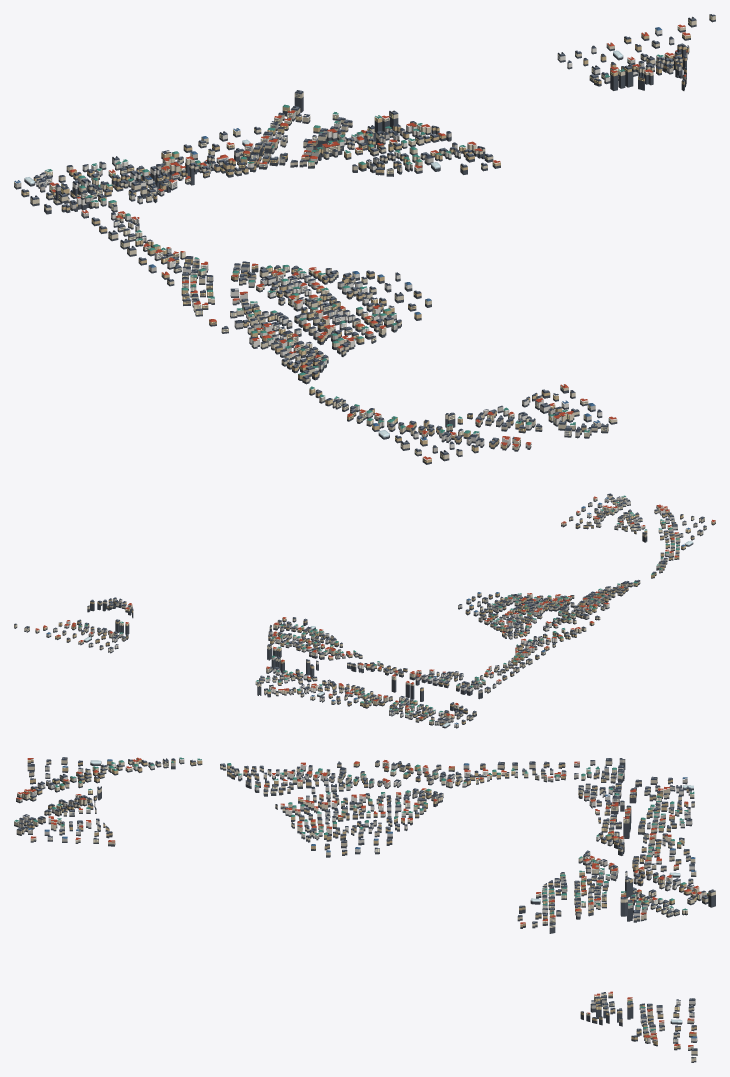
File: osm_buildings_T_W01_S02.glb
The picture shows the model from 3 angles, top to bottom: view 1: azimuth 30°, elevation 25°; view 2: azimuth 150°, elevation 25°; view 3: azimuth 270°, elevation 25°; orthographic projection. The views are drawn at different scales.
Visible parts, largest first — view 1: OSM_T_W01_S02_foundation, OSM_T_W01_S02_wall_cream_stucco, OSM_T_W01_S02_roof_mansard_slate, OSM_T_W01_S02_wall_french_ochre, OSM_T_W01_S02_wall_warm_white, OSM_T_W01_S02_roof_mansard_deck, OSM_T_W01_S02_roof_terracotta, OSM_T_W01_S02_wall_pastel_sand, OSM_T_W01_S02_roof_mint_metal, OSM_T_W01_S02_balcony_railing; view 2: OSM_T_W01_S02_foundation, OSM_T_W01_S02_roof_mansard_slate, OSM_T_W01_S02_wall_cream_stucco, OSM_T_W01_S02_wall_french_ochre, OSM_T_W01_S02_wall_warm_white, OSM_T_W01_S02_roof_mansard_deck, OSM_T_W01_S02_roof_terracotta, OSM_T_W01_S02_wall_pastel_sand, OSM_T_W01_S02_roof_mint_metal; view 3: OSM_T_W01_S02_foundation, OSM_T_W01_S02_roof_mansard_slate, OSM_T_W01_S02_wall_cream_stucco, OSM_T_W01_S02_wall_french_ochre, OSM_T_W01_S02_wall_warm_white, OSM_T_W01_S02_roof_mansard_deck, OSM_T_W01_S02_roof_terracotta, OSM_T_W01_S02_wall_pastel_sand, OSM_T_W01_S02_roof_mint_metal, OSM_T_W01_S02_balcony_railing.
Boxes of the visible parts, x1,y1,x2,y2 form: OSM_T_W01_S02_foundation: (14,18,715,464); OSM_T_W01_S02_wall_cream_stucco: (30,15,715,459); OSM_T_W01_S02_roof_mansard_slate: (21,14,715,455); OSM_T_W01_S02_wall_french_ochre: (21,32,690,462); OSM_T_W01_S02_wall_warm_white: (36,28,687,447); OSM_T_W01_S02_roof_mansard_deck: (22,17,695,453); OSM_T_W01_S02_roof_terracotta: (49,24,690,459); OSM_T_W01_S02_wall_pastel_sand: (14,56,686,451); OSM_T_W01_S02_roof_mint_metal: (45,54,663,433); OSM_T_W01_S02_balcony_railing: (25,20,690,460); OSM_T_W01_S02_foundation: (14,498,715,728); OSM_T_W01_S02_roof_mansard_slate: (14,494,706,723); OSM_T_W01_S02_wall_cream_stucco: (14,495,706,724); OSM_T_W01_S02_wall_french_ochre: (43,501,715,724); OSM_T_W01_S02_wall_warm_white: (46,501,686,724); OSM_T_W01_S02_roof_mansard_deck: (26,493,705,722); OSM_T_W01_S02_roof_terracotta: (35,496,715,718); OSM_T_W01_S02_wall_pastel_sand: (78,498,697,727); OSM_T_W01_S02_roof_mint_metal: (78,495,679,721); OSM_T_W01_S02_foundation: (14,761,715,1062); OSM_T_W01_S02_roof_mansard_slate: (17,757,715,1058); OSM_T_W01_S02_wall_cream_stucco: (14,758,715,1061); OSM_T_W01_S02_wall_french_ochre: (24,758,708,1048); OSM_T_W01_S02_wall_warm_white: (22,763,702,1042); OSM_T_W01_S02_roof_mansard_deck: (18,757,714,1049); OSM_T_W01_S02_roof_terracotta: (16,757,701,1046); OSM_T_W01_S02_wall_pastel_sand: (16,758,694,1033); OSM_T_W01_S02_roof_mint_metal: (14,757,708,1030); OSM_T_W01_S02_balcony_railing: (16,759,698,1045).
Size of the model in its own units: 1866 by 112 by 1983.
